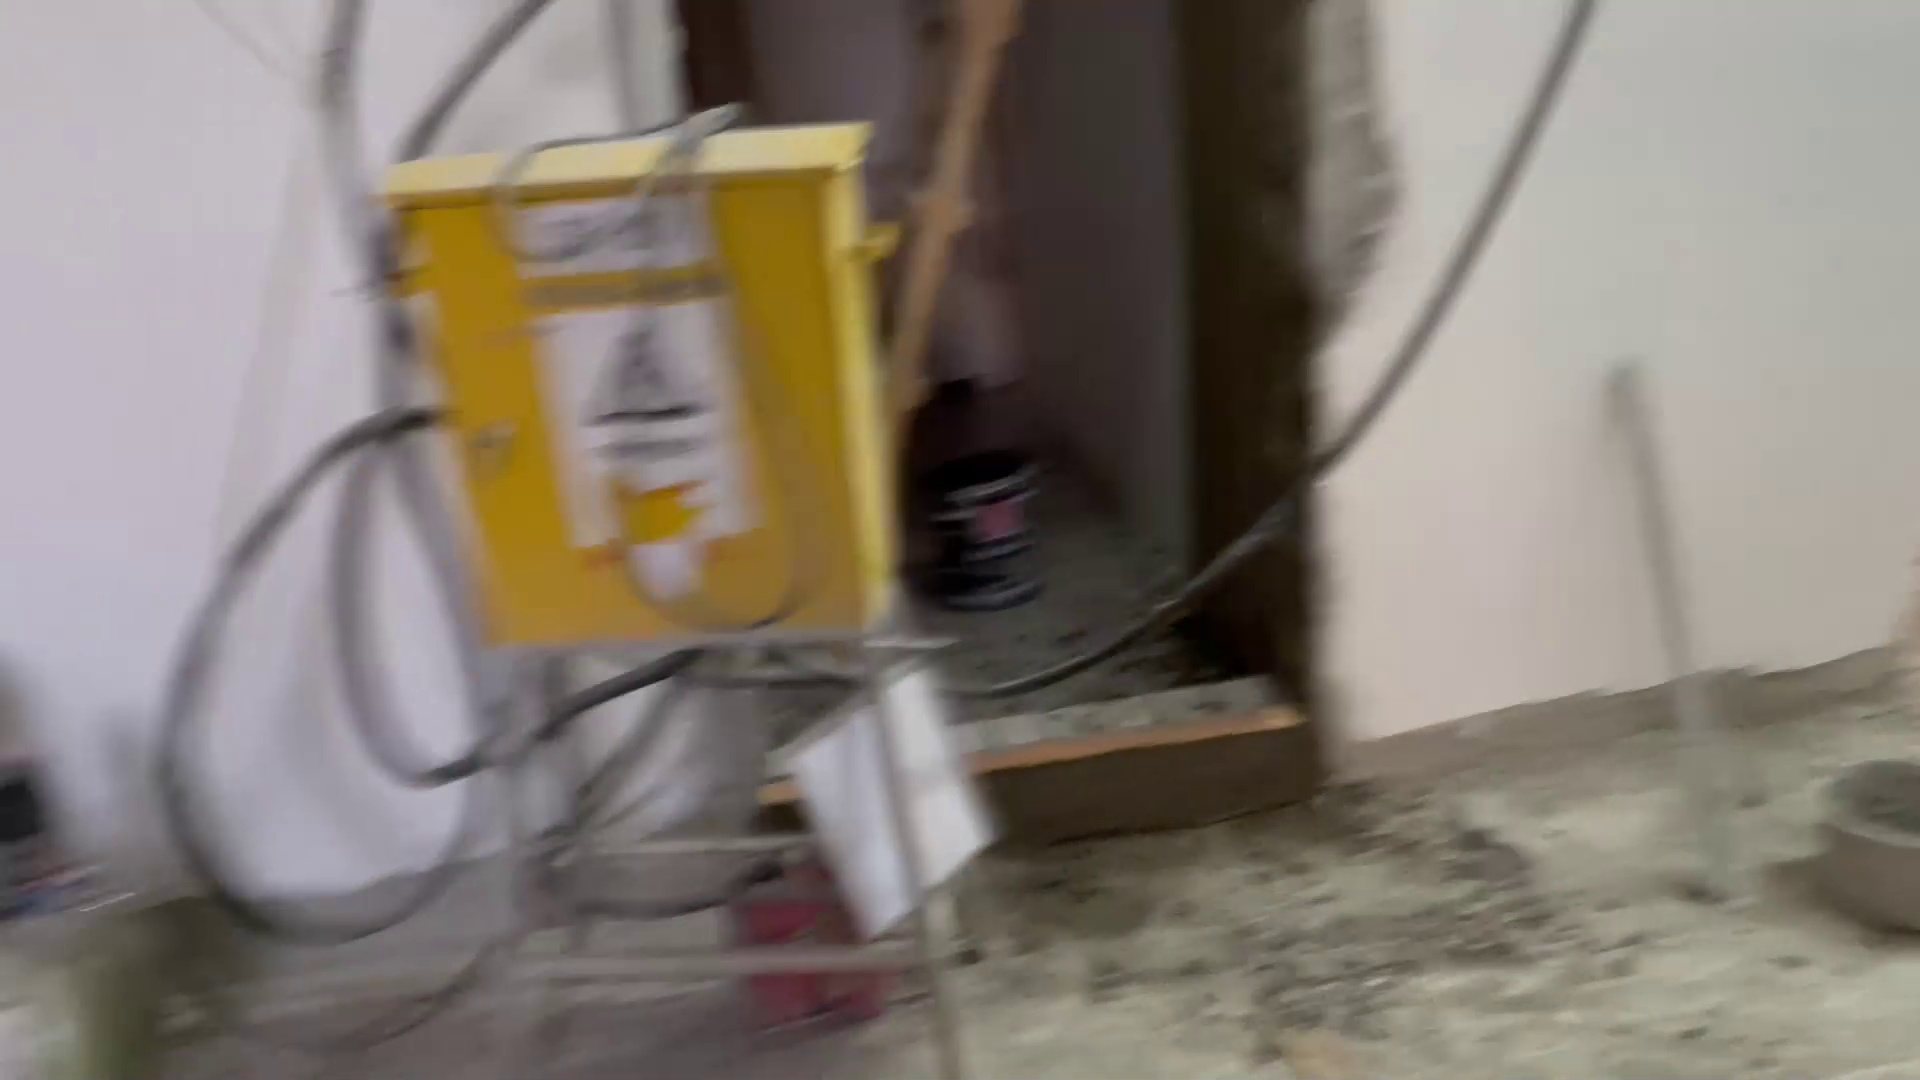ebox: (375, 137, 985, 1080)
